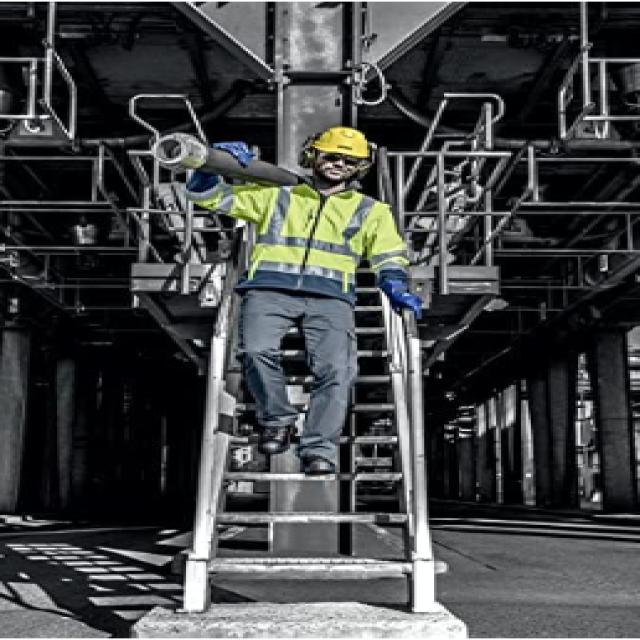boots: (251, 404, 355, 477)
helmet: (303, 125, 378, 187)
vest: (234, 179, 383, 300)
